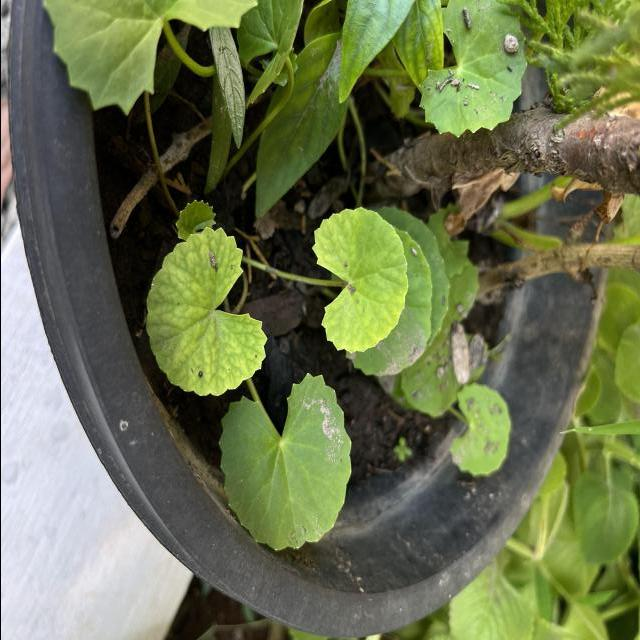Centella asiatica: (215, 368, 355, 556), (143, 223, 271, 400), (308, 202, 410, 358)
